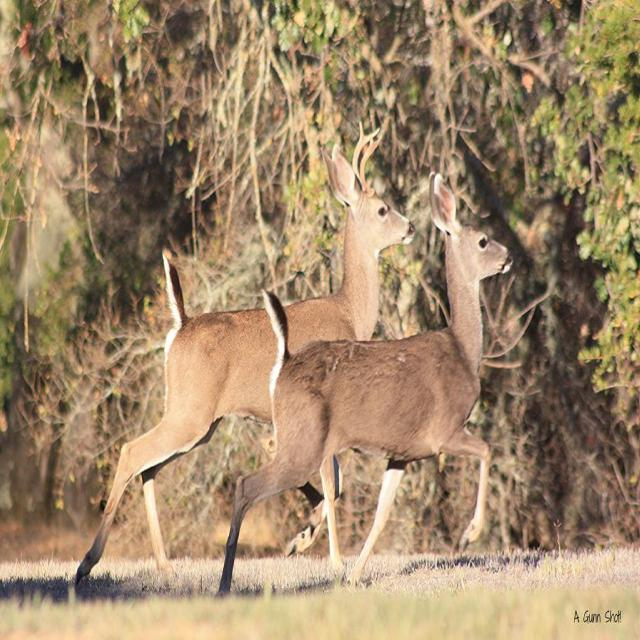Deer: (77, 124, 418, 581), (214, 174, 516, 595)
